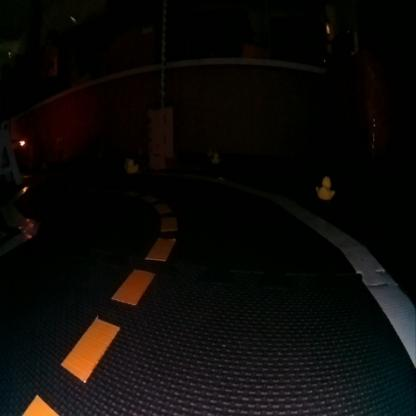Duckie: (315, 176, 332, 198), (126, 160, 136, 172), (212, 153, 218, 161)
